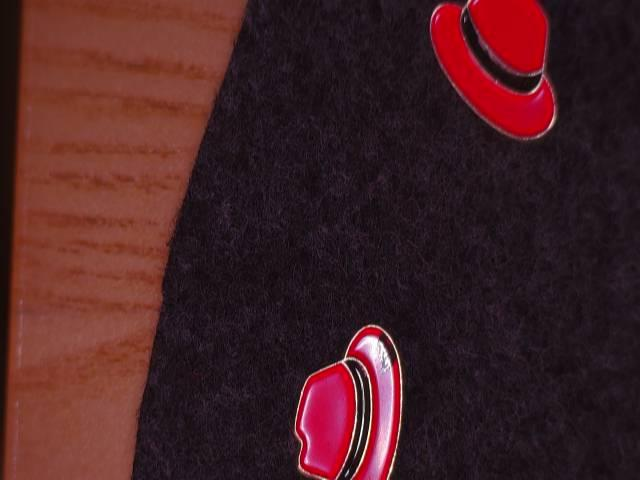Red-Hat: (407, 0, 575, 165), (277, 303, 433, 480)
Scratch: (364, 328, 407, 379)
